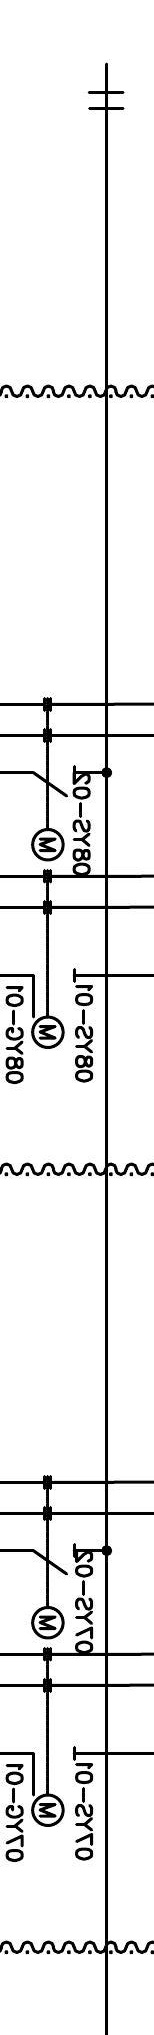115_1way_ds_w_motor: (30, 764, 78, 863), (30, 1543, 78, 1640), (30, 967, 76, 1050), (30, 1746, 76, 1827)
115_buffer: (88, 91, 126, 110)
